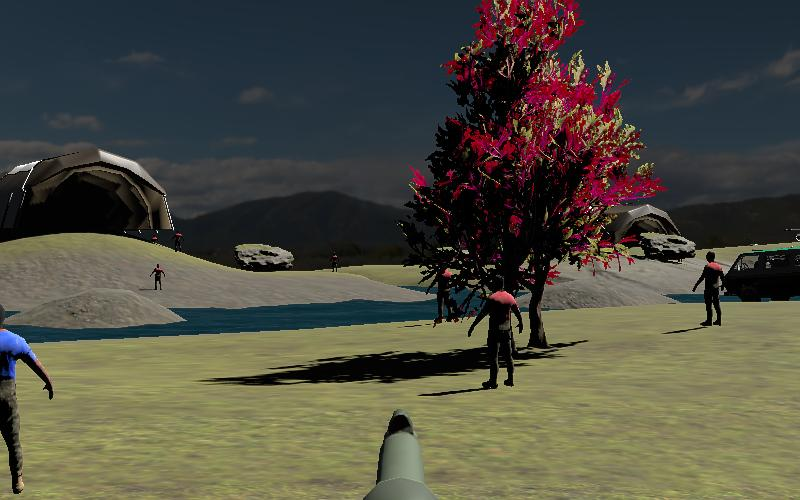Human: (0, 291, 60, 497), (466, 273, 525, 390), (691, 249, 727, 329), (147, 260, 167, 293), (170, 228, 185, 255)
Tank: (783, 220, 800, 247)
car: (720, 245, 800, 304)
